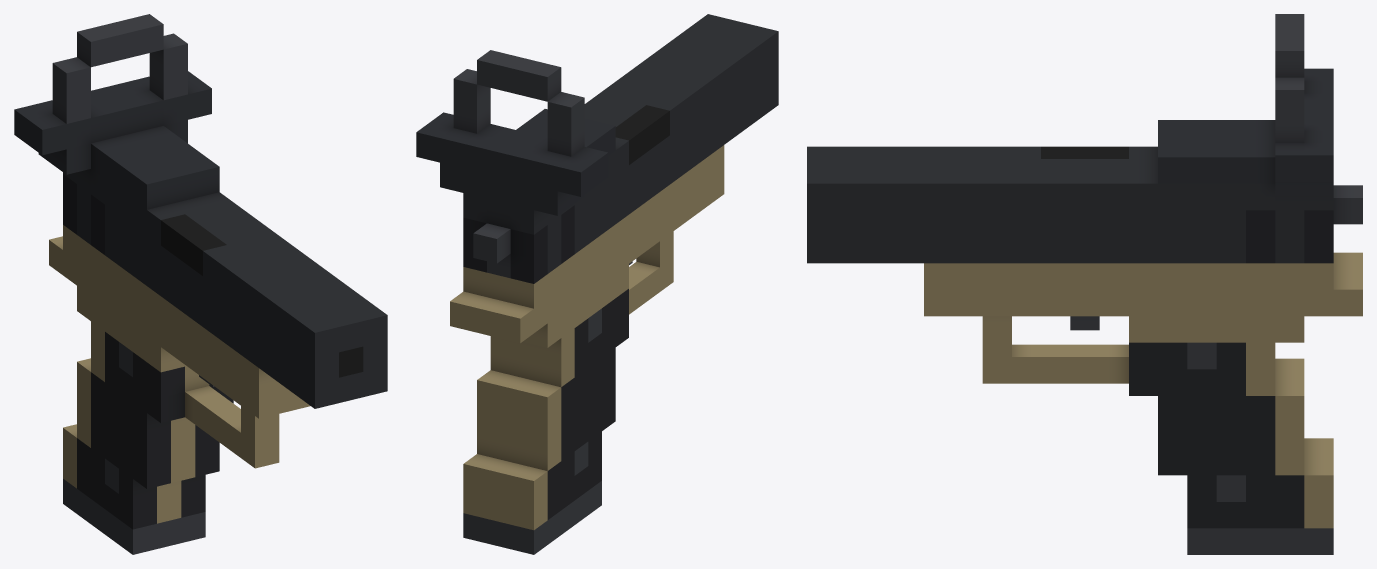
File: pistol.glb
The picture shows the model from 3 angles, left to right: view 1: azimuth 30°, elevation 25°; view 2: azimuth 150°, elevation 25°; view 3: azimuth 270°, elevation 25°; orthographic projection. The views are drawn at different scales.
Visible parts, largest first — view 1: pistol_body; view 2: pistol_body; view 3: pistol_body.
Part boxes in pixels (box(x1,y1,x2,y2)): pistol_body: box(14, 14, 387, 554); pistol_body: box(416, 14, 778, 554); pistol_body: box(807, 14, 1362, 554).
Bounding box in the file's own units: 0.2734 × 0.7422 × 0.7422.
Materials: 1 (1 with a texture image).
